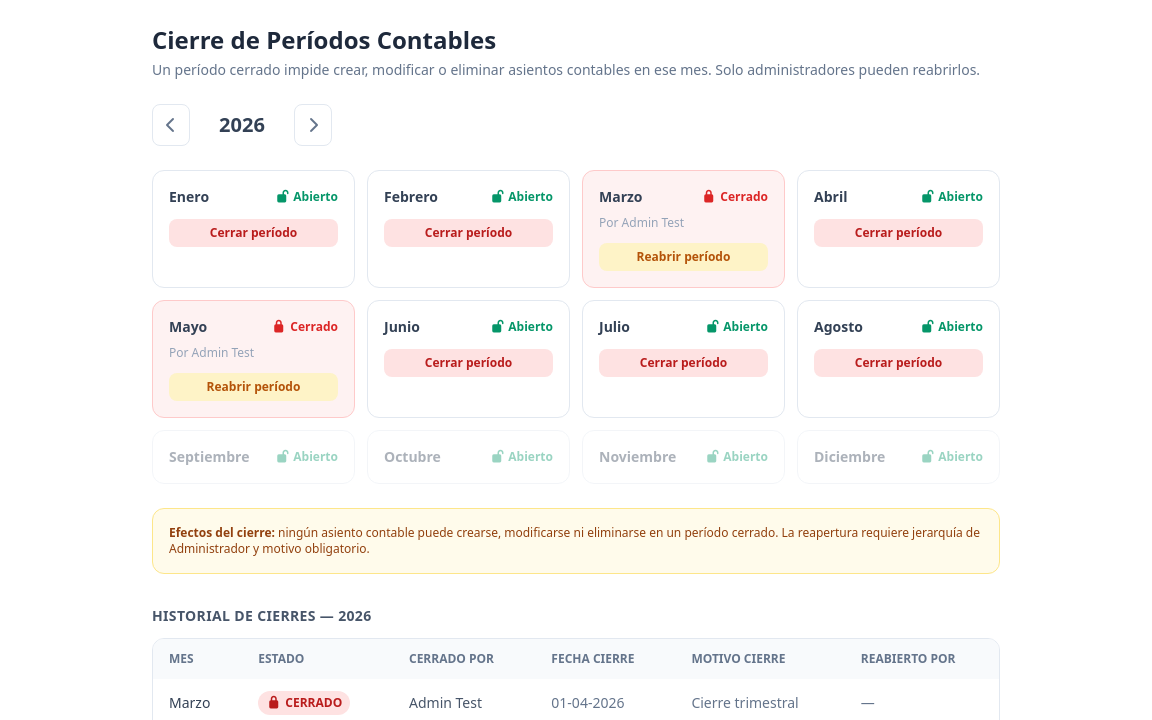
Test: CierrePeriodo — modal reabrir › muestra error si intenta reabrir sin motivo
Click the 1st button "Reabrir período" at (684, 257), box [599, 243, 768, 271]
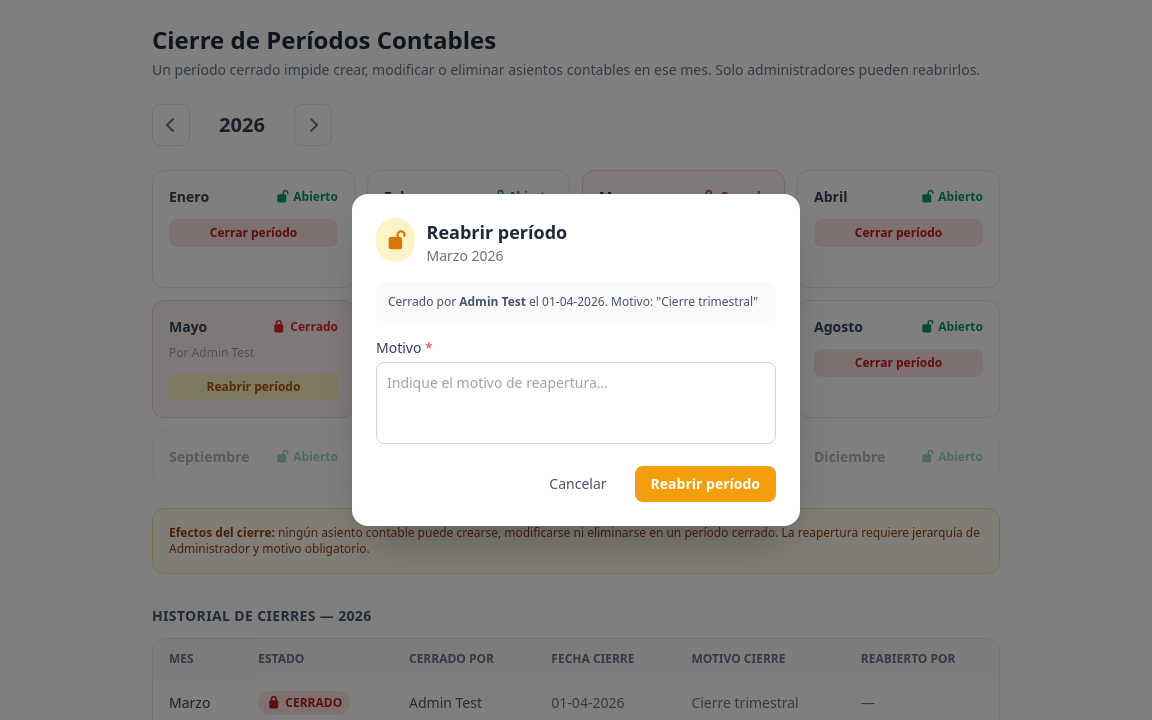
expect the heading "Reabrir período" is shown: met, box [426, 218, 567, 246]
Click the button "Reabrir período" at (705, 484), box [635, 466, 776, 502]
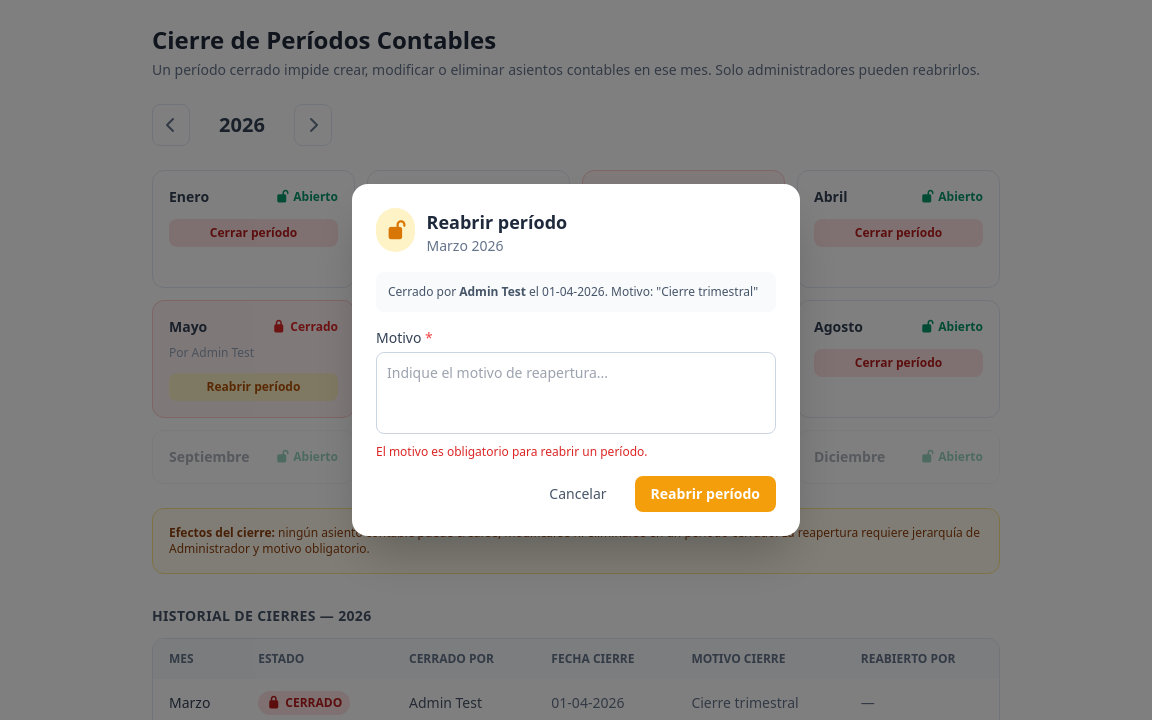
expect the text "El motivo es obligatorio para reabrir un período." is shown: met, box [376, 443, 648, 460]
